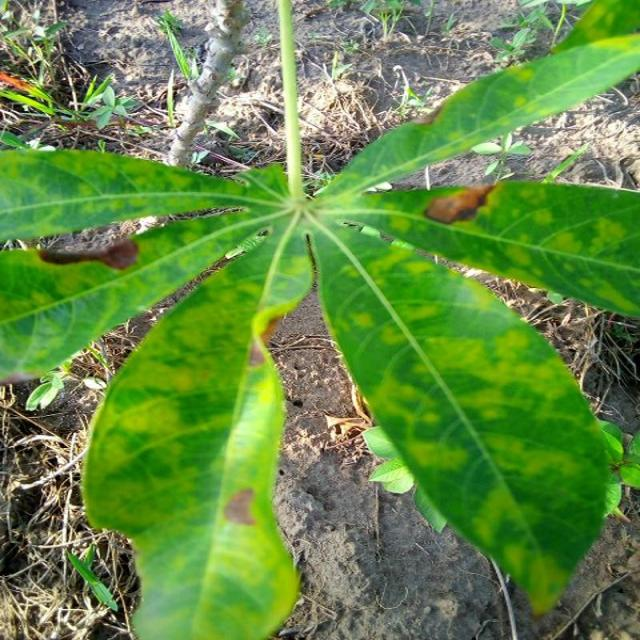cassava leaf: (1, 1, 638, 637), (307, 197, 624, 618), (80, 215, 306, 638)
